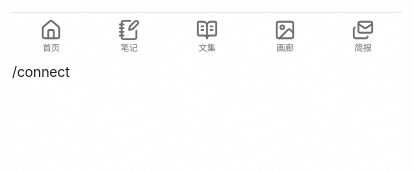
Scenario: BottomTabBar › keeps the 首页 destination with the shared house icon
The image size is (414, 172).
Click the button "首页": (51, 37) [12,13,90,61]
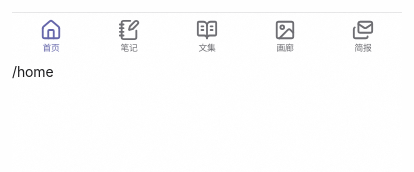
Expected: the text with test id "current-path" reads "/home", [12,63,54,80]
